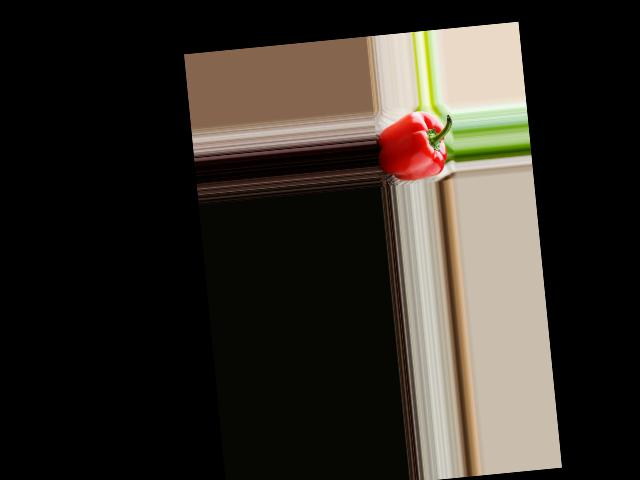bell_pepper: (372, 106, 455, 182)
